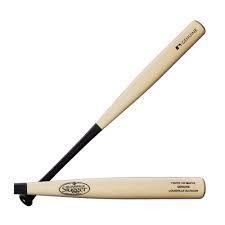Baseball-Bat: (14, 21, 206, 206), (14, 177, 206, 199)
